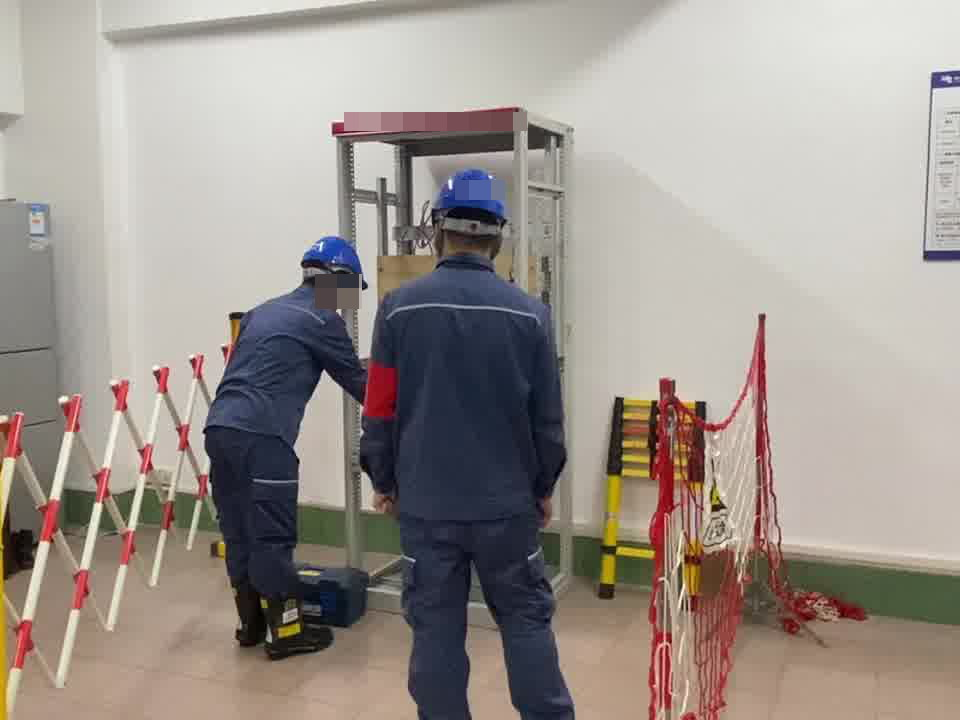badge: (361, 360, 400, 423)
downsuit: (398, 525, 577, 720), (201, 428, 306, 590)
halt: (427, 166, 513, 263), (299, 234, 365, 303)
hand: (369, 487, 397, 516), (536, 491, 555, 530)
inear: (324, 267, 349, 300)
person: (368, 162, 584, 720), (194, 233, 367, 665)
shoe: (231, 587, 336, 663)
upsuit: (366, 263, 563, 518), (209, 287, 362, 426)
